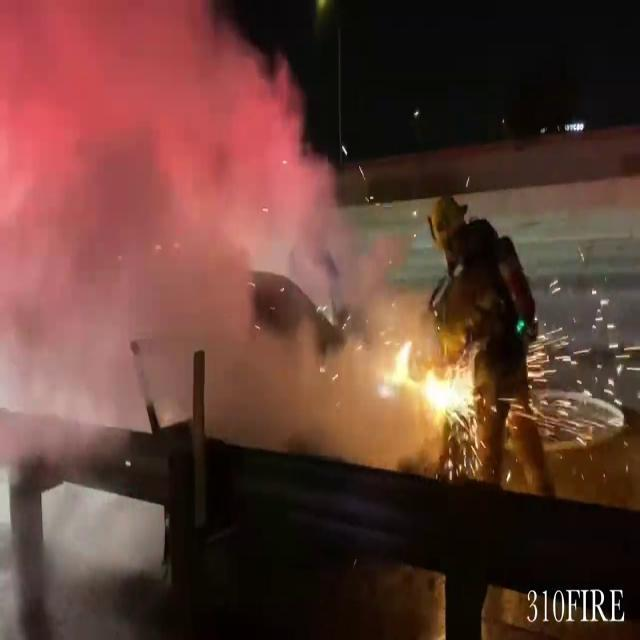Fire: (380, 324, 482, 450)
Smoke: (0, 0, 382, 441)
